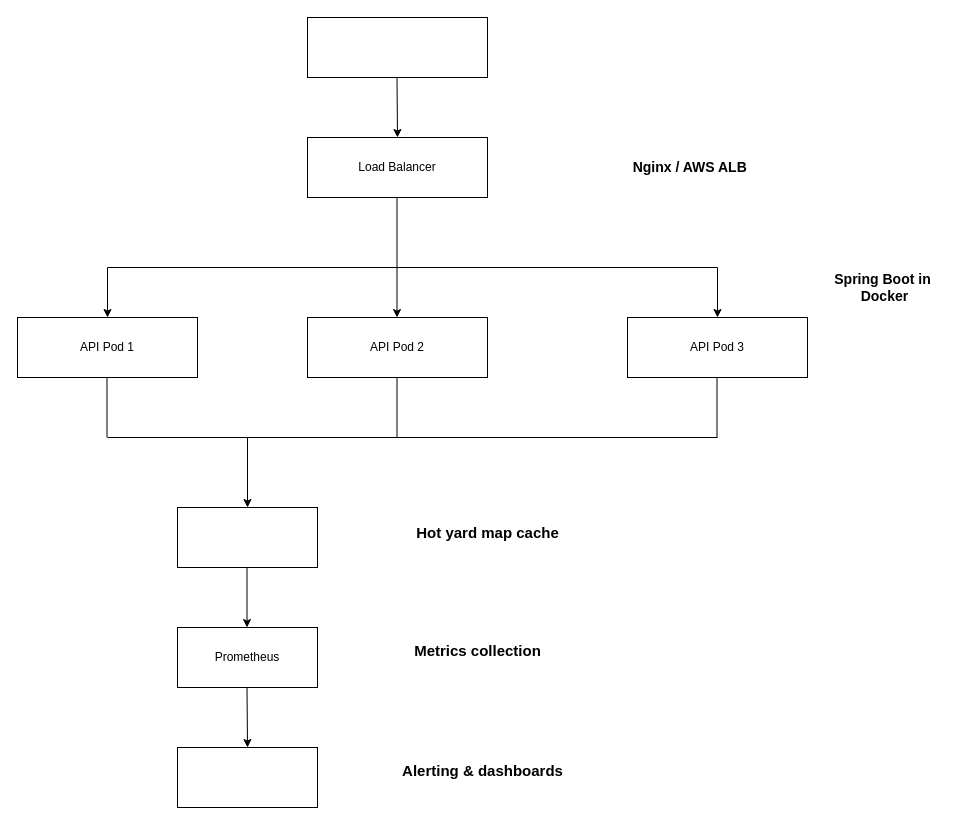
The diagram is 960 pixels wide and 825 high, and some of its shapes have lost their labels. The centre of each missing label's shape, as x and y in pixels:
Grafana: the point at 247,777
HTTPS Requests: the point at 397,47
Redis: the point at 247,537
